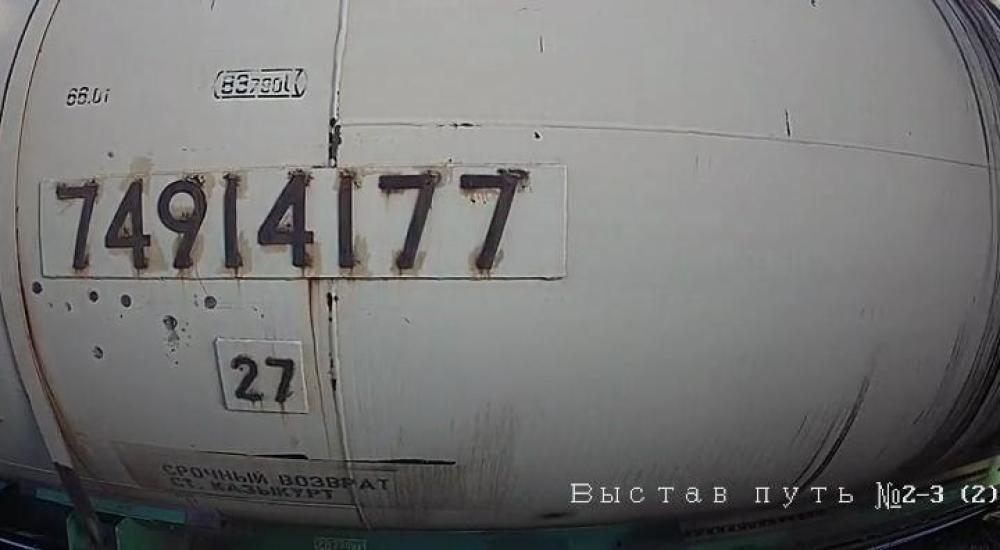Wagon-number: (51, 164, 526, 282)
